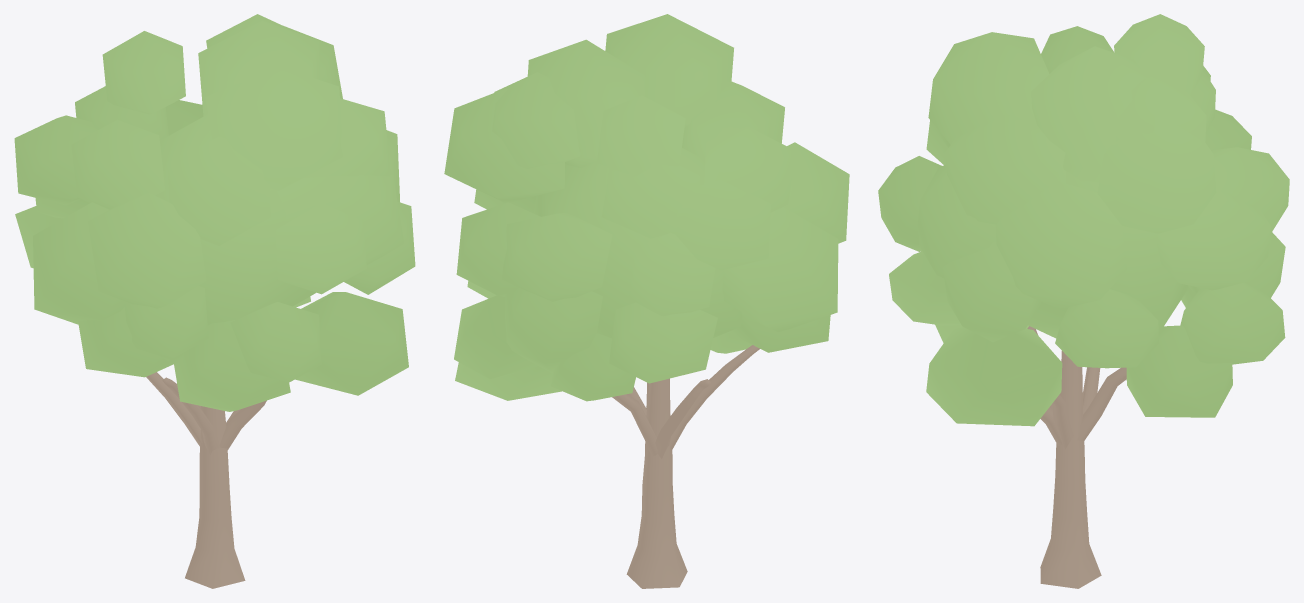
Rendered from Blender_Maple_2_Far.glb.
3 renders of one model, left to right at view 1: azimuth 30°, elevation 25°; view 2: azimuth 150°, elevation 25°; view 3: azimuth 270°, elevation 25°, orthographic. The views are drawn at different scales.
Parts seen in each view (by area): view 1: Blender_Maple_2_Far; view 2: Blender_Maple_2_Far; view 3: Blender_Maple_2_Far.
Part boxes in pixels (x1,y1,x2,y2): Blender_Maple_2_Far: (14, 14, 415, 588); Blender_Maple_2_Far: (444, 14, 849, 588); Blender_Maple_2_Far: (878, 14, 1289, 588).
Size of the model in its own units: 12.56 by 17.84 by 11.89.
